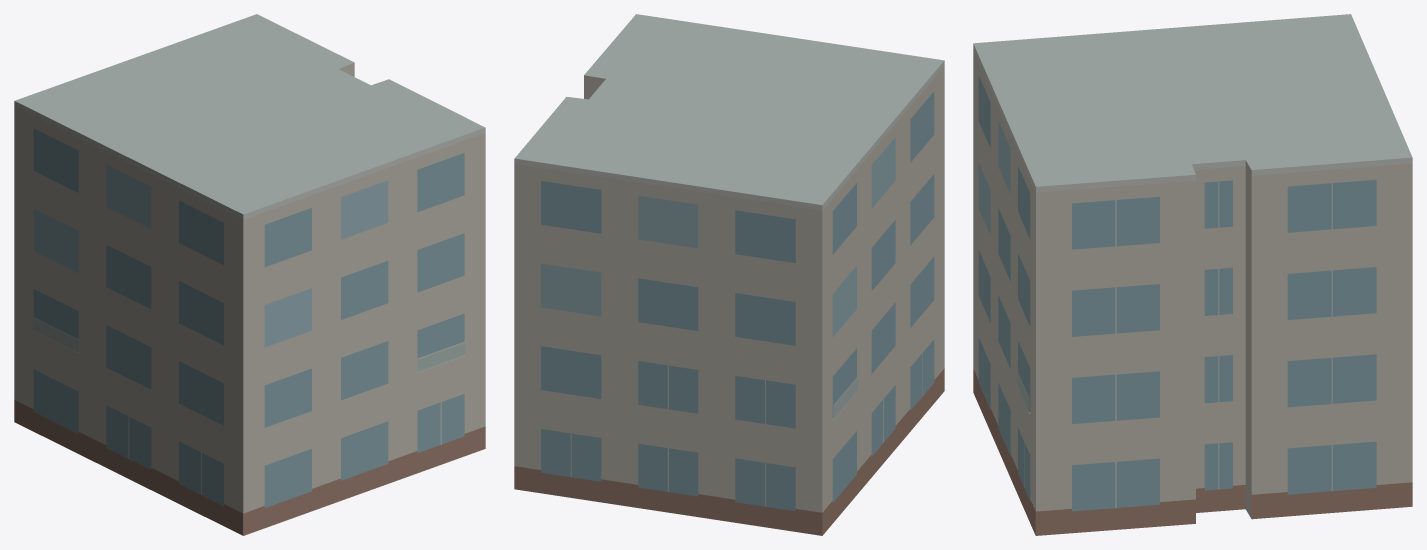
Rendered from survey-upis-33013062.glb.
3 renders of one model, left to right at view 1: azimuth 30°, elevation 25°; view 2: azimuth 150°, elevation 25°; view 3: azimuth 270°, elevation 25°, orthographic. The views are drawn at different scales.
Parts seen in each view (by area): view 1: survey-upis-33013062.tmp; view 2: survey-upis-33013062.tmp; view 3: survey-upis-33013062.tmp.
Boxes of the visible parts, x1,y1,x2,y2 form: survey-upis-33013062.tmp: (14, 14, 485, 535); survey-upis-33013062.tmp: (514, 14, 944, 535); survey-upis-33013062.tmp: (973, 14, 1412, 535).
Size of the model in its own units: 15.72 by 14.8 by 16.89.
